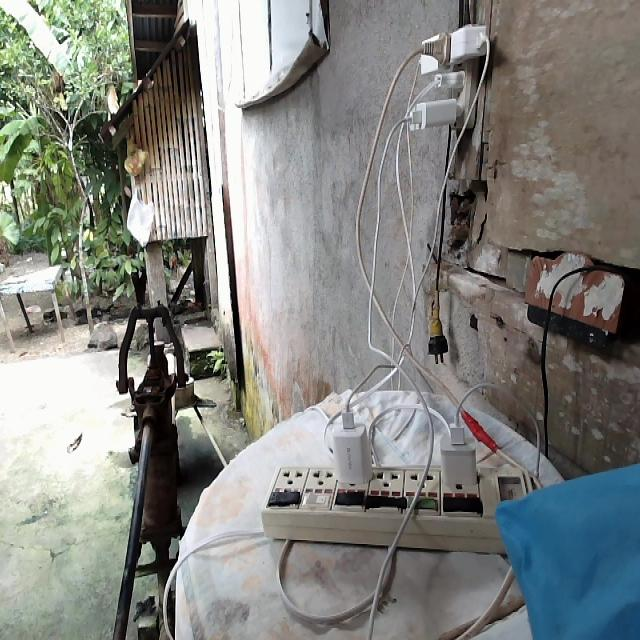-: (401, 20, 494, 140)
